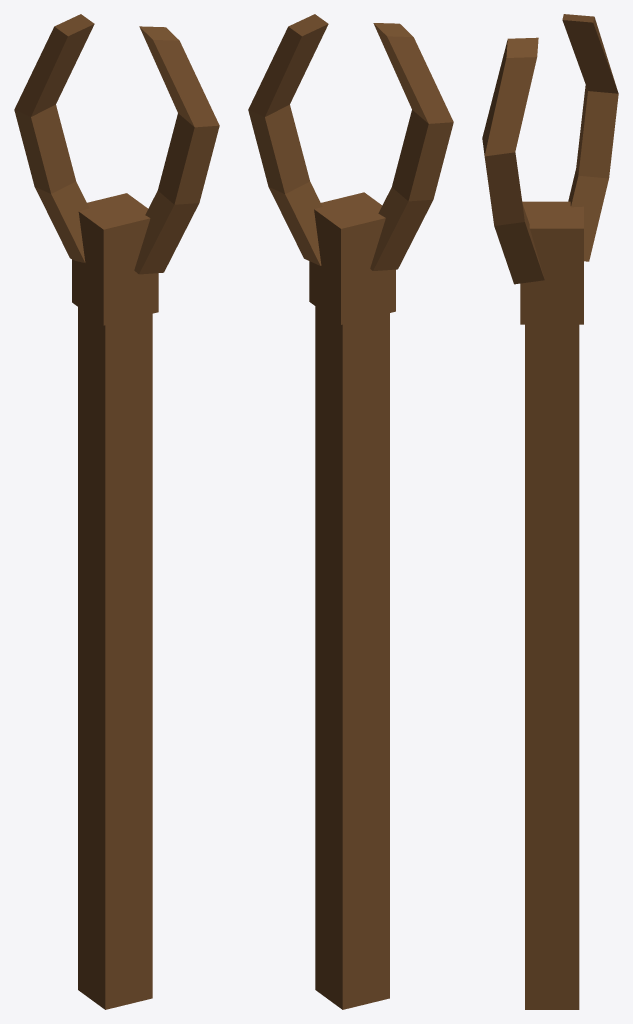
Rendered from tall_torch_1.glb.
3 views of the same model, side by side, from view 1: azimuth 30°, elevation 25°; view 2: azimuth 210°, elevation 25°; view 3: azimuth 270°, elevation 25° (orthographic).
Parts seen in each view (by area): view 1: Cube; view 2: Cube; view 3: Cube.
Boxes of the visible parts, x1=… form: Cube: x1=14, y1=14, x2=219, y2=1009; Cube: x1=248, y1=14, x2=453, y2=1009; Cube: x1=482, y1=14, x2=618, y2=1009.
Size of the model in its own units: 0.0651 by 0.4323 by 0.0551.
